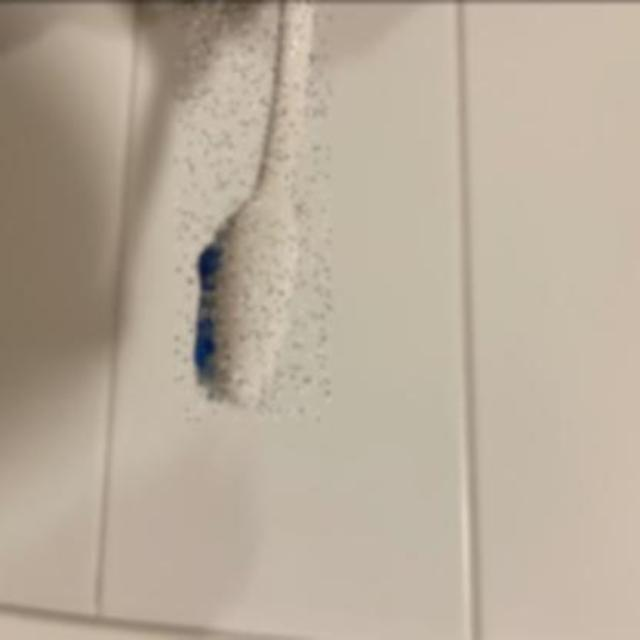toothbrush: (176, 0, 330, 418)
